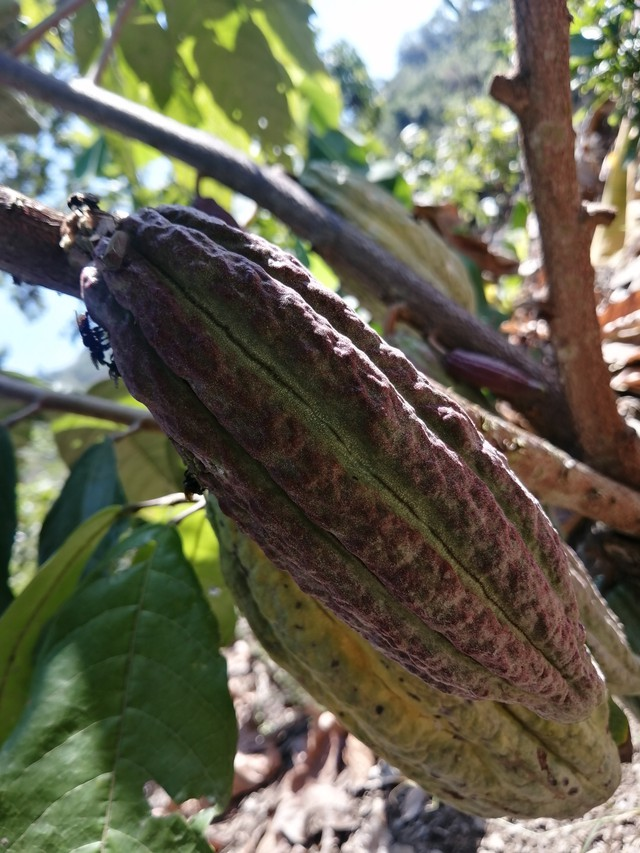Health: (76, 183, 614, 735)
